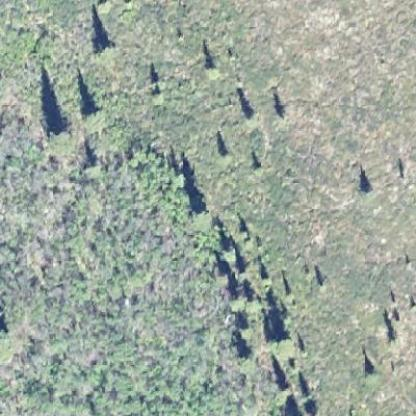tree-top: (44, 123, 72, 151), (77, 104, 107, 130), (92, 34, 118, 60), (188, 203, 214, 227), (232, 350, 259, 372), (272, 328, 294, 352), (226, 289, 248, 311), (362, 361, 381, 384), (202, 61, 220, 81), (357, 180, 373, 201), (242, 108, 260, 126), (221, 241, 238, 259)
